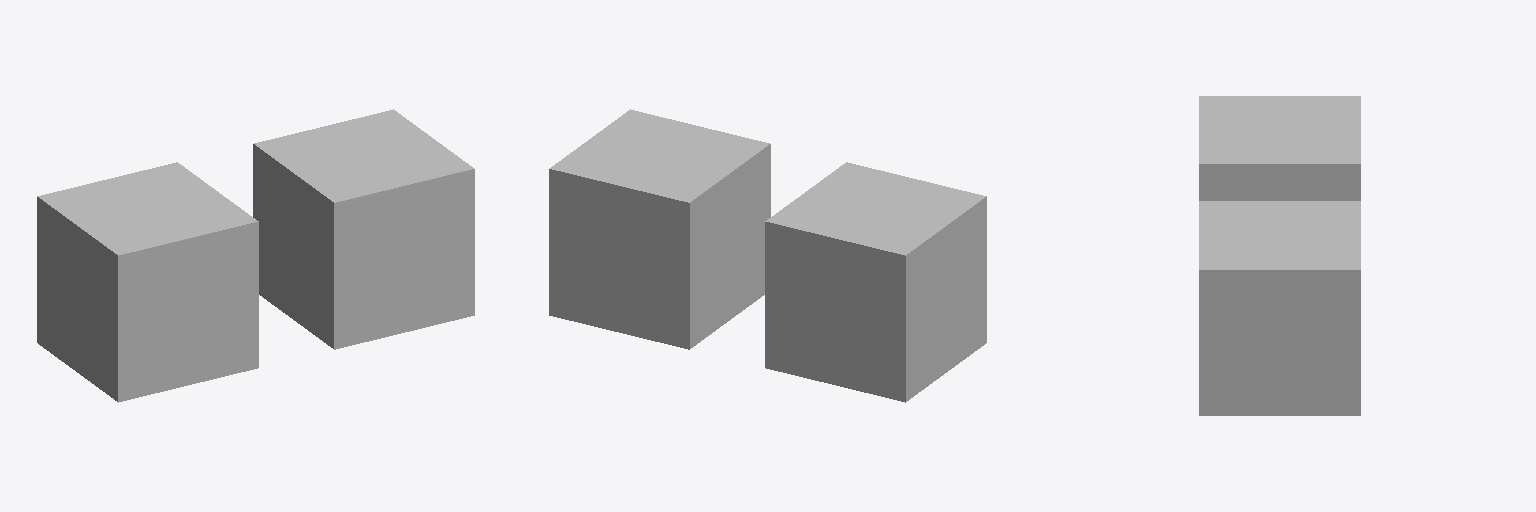
File: Cubes2.obj
The picture shows the model from 3 angles: view 1: azimuth 30°, elevation 25°; view 2: azimuth 150°, elevation 25°; view 3: azimuth 270°, elevation 25°; orthographic projection.
Visible parts, largest first — view 1: Cube.001, Cube.002; view 2: Cube.001, Cube.002; view 3: Cube.002, Cube.001.
Boxes of the visible parts, <box> form: Cube.001: <box>37,162,258,402</box>; Cube.002: <box>253,109,474,349</box>; Cube.001: <box>765,162,986,402</box>; Cube.002: <box>549,109,770,349</box>; Cube.002: <box>1199,201,1360,415</box>; Cube.001: <box>1199,96,1360,200</box>.
Size of the model in its own units: 5.08 by 2 by 2.